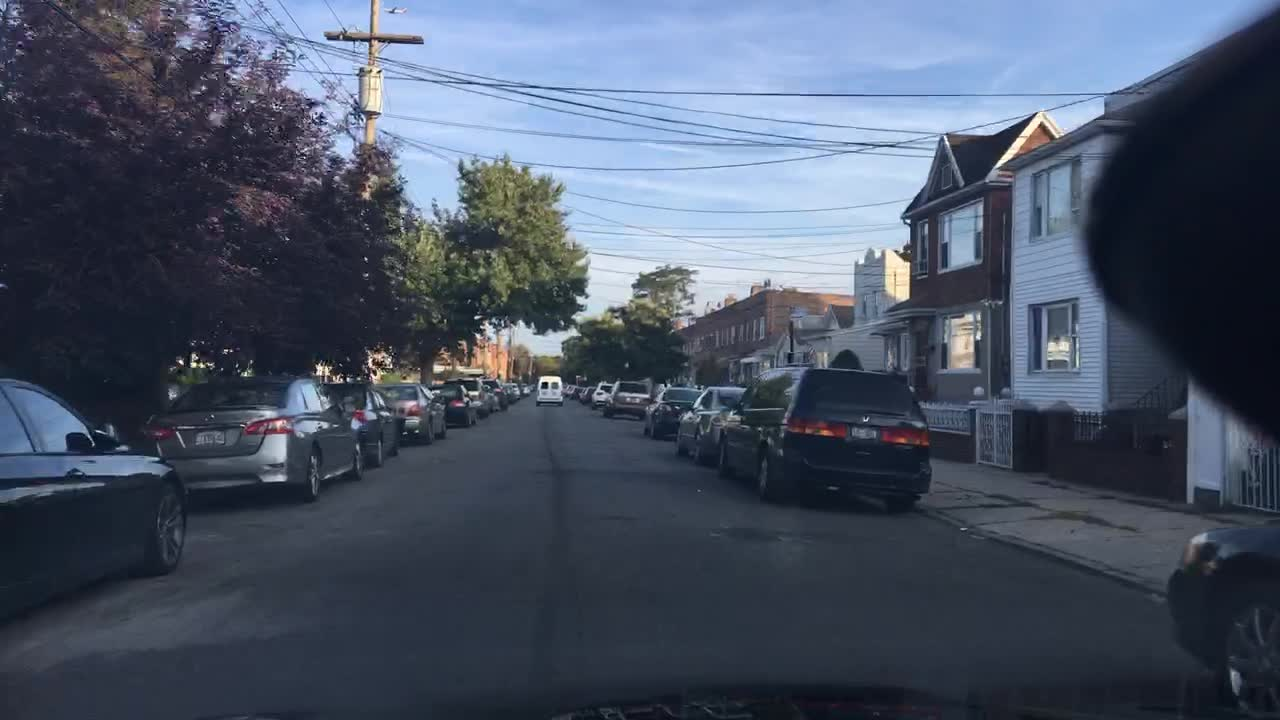bus: (393, 364, 486, 380)
car: (0, 372, 189, 619), (715, 360, 933, 520), (139, 366, 361, 500), (1160, 506, 1279, 712), (319, 381, 400, 466), (673, 385, 750, 469), (376, 379, 449, 444), (641, 384, 705, 442), (430, 384, 479, 427), (602, 378, 651, 421), (446, 379, 490, 421), (532, 374, 564, 407), (481, 377, 511, 408), (467, 384, 500, 412), (588, 381, 614, 407), (503, 380, 523, 401), (579, 385, 596, 401), (518, 380, 533, 396), (564, 381, 576, 397), (527, 381, 541, 392), (572, 385, 581, 397), (578, 387, 584, 398)
